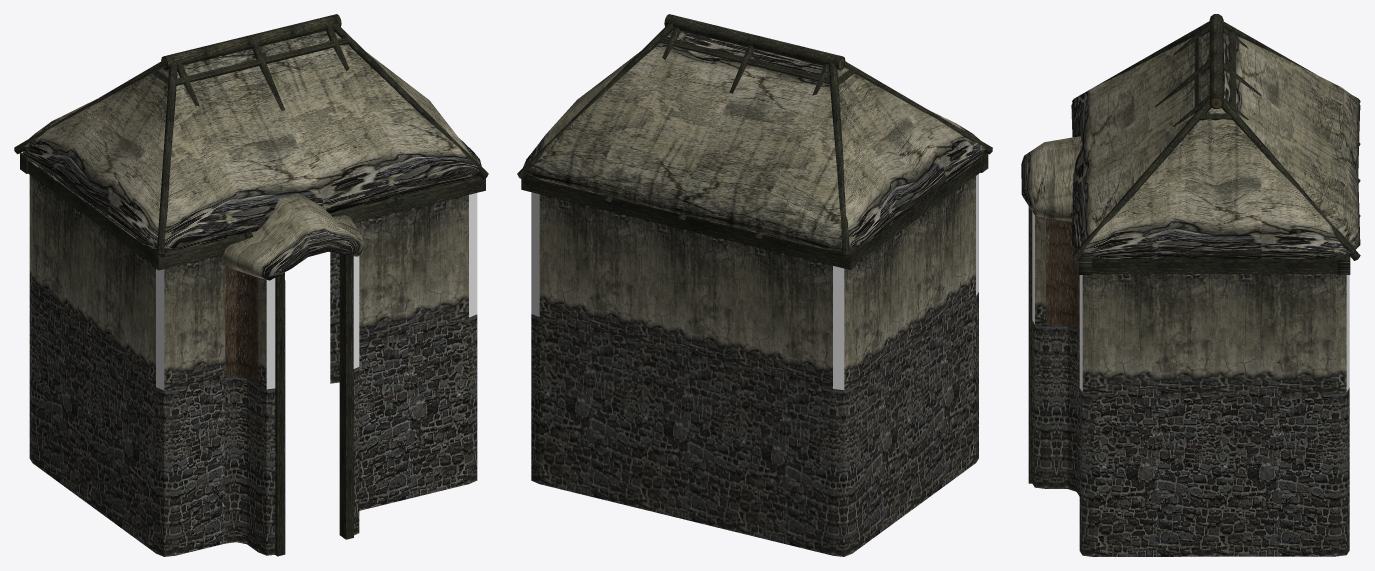
The model's file is ex_nord_house_05.obj.
The picture shows the model from 3 angles, left to right: view 1: azimuth 30°, elevation 25°; view 2: azimuth 150°, elevation 25°; view 3: azimuth 270°, elevation 25°; orthographic projection. The views are drawn at different scales.
Visible parts, largest first — view 1: nifid_32-matrix_Tri_Ex_nord_house_05_7-lib, nifid_24-matrix_Tri_Ex_nord_house_05_5-lib, nifid_20-matrix_Tri_Ex_nord_house_05_4-lib, nifid_1-matrix_Tri_Ex_nord_house_05_0-lib, nifid_6-matrix_Tri_Ex_nord_house_05_1-lib, nifid_15-matrix_Tri_Ex_nord_house_05_3-lib, nifid_11-matrix_Tri_Ex_nord_house_05_2-lib, nifid_44-matrix_Tri_Ex_nord_house_05_10-lib, nifid_36-matrix_Tri_Ex_nord_house_05_8-lib, nifid_40-matrix_Tri_Ex_nord_house_05_9-lib; view 2: nifid_24-matrix_Tri_Ex_nord_house_05_5-lib, nifid_32-matrix_Tri_Ex_nord_house_05_7-lib, nifid_20-matrix_Tri_Ex_nord_house_05_4-lib, nifid_1-matrix_Tri_Ex_nord_house_05_0-lib, nifid_6-matrix_Tri_Ex_nord_house_05_1-lib, nifid_44-matrix_Tri_Ex_nord_house_05_10-lib, nifid_11-matrix_Tri_Ex_nord_house_05_2-lib, nifid_40-matrix_Tri_Ex_nord_house_05_9-lib; view 3: nifid_32-matrix_Tri_Ex_nord_house_05_7-lib, nifid_24-matrix_Tri_Ex_nord_house_05_5-lib, nifid_20-matrix_Tri_Ex_nord_house_05_4-lib, nifid_1-matrix_Tri_Ex_nord_house_05_0-lib, nifid_11-matrix_Tri_Ex_nord_house_05_2-lib, nifid_40-matrix_Tri_Ex_nord_house_05_9-lib, nifid_15-matrix_Tri_Ex_nord_house_05_3-lib, nifid_6-matrix_Tri_Ex_nord_house_05_1-lib, nifid_36-matrix_Tri_Ex_nord_house_05_8-lib, nifid_44-matrix_Tri_Ex_nord_house_05_10-lib.
Part boxes in pixels (<box>): nifid_32-matrix_Tri_Ex_nord_house_05_7-lib: <box>21,30,481,280</box>; nifid_24-matrix_Tri_Ex_nord_house_05_5-lib: <box>32,297,468,555</box>; nifid_20-matrix_Tri_Ex_nord_house_05_4-lib: <box>32,143,468,389</box>; nifid_1-matrix_Tri_Ex_nord_house_05_0-lib: <box>14,14,488,556</box>; nifid_6-matrix_Tri_Ex_nord_house_05_1-lib: <box>156,252,477,556</box>; nifid_15-matrix_Tri_Ex_nord_house_05_3-lib: <box>225,376,258,551</box>; nifid_11-matrix_Tri_Ex_nord_house_05_2-lib: <box>29,292,266,556</box>; nifid_44-matrix_Tri_Ex_nord_house_05_10-lib: <box>156,193,477,390</box>; nifid_36-matrix_Tri_Ex_nord_house_05_8-lib: <box>225,221,355,385</box>; nifid_40-matrix_Tri_Ex_nord_house_05_9-lib: <box>29,175,266,390</box>; nifid_24-matrix_Tri_Ex_nord_house_05_5-lib: <box>539,296,975,555</box>; nifid_32-matrix_Tri_Ex_nord_house_05_7-lib: <box>523,30,985,250</box>; nifid_20-matrix_Tri_Ex_nord_house_05_4-lib: <box>539,176,975,388</box>; nifid_1-matrix_Tri_Ex_nord_house_05_0-lib: <box>517,14,992,269</box>; nifid_6-matrix_Tri_Ex_nord_house_05_1-lib: <box>531,292,978,556</box>; nifid_44-matrix_Tri_Ex_nord_house_05_10-lib: <box>531,174,978,389</box>; nifid_11-matrix_Tri_Ex_nord_house_05_2-lib: <box>844,387,852,556</box>; nifid_40-matrix_Tri_Ex_nord_house_05_9-lib: <box>844,268,852,389</box>; nifid_32-matrix_Tri_Ex_nord_house_05_7-lib: <box>1021,32,1360,258</box>; nifid_24-matrix_Tri_Ex_nord_house_05_5-lib: <box>1093,393,1335,556</box>; nifid_20-matrix_Tri_Ex_nord_house_05_4-lib: <box>1093,274,1335,393</box>; nifid_1-matrix_Tri_Ex_nord_house_05_0-lib: <box>1028,14,1360,483</box>; nifid_11-matrix_Tri_Ex_nord_house_05_2-lib: <box>1035,324,1346,556</box>; nifid_40-matrix_Tri_Ex_nord_house_05_9-lib: <box>1035,215,1346,393</box>; nifid_15-matrix_Tri_Ex_nord_house_05_3-lib: <box>1046,325,1067,488</box>; nifid_6-matrix_Tri_Ex_nord_house_05_1-lib: <box>1032,321,1349,554</box>; nifid_36-matrix_Tri_Ex_nord_house_05_8-lib: <box>1046,218,1079,332</box>; nifid_44-matrix_Tri_Ex_nord_house_05_10-lib: <box>1032,212,1349,391</box>.
Bounding box in the file's own units: 13.83 × 16.94 × 12.25.
